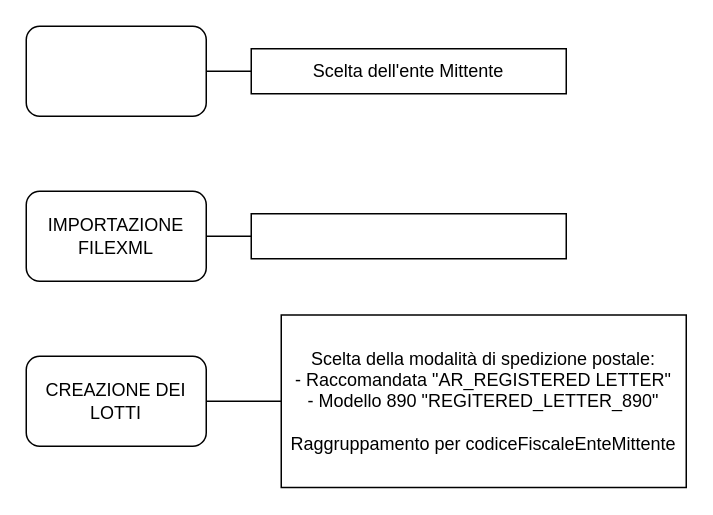
This 713x515 diagram has some shape labels left out. Each missing label, with the box of its shape:
GENERAZIONE DOCUMENTI: (25, 25, 206, 116)
Valorizzazione dei campi: - codiceFiscaleEnteMittente: (250, 212, 566, 259)
